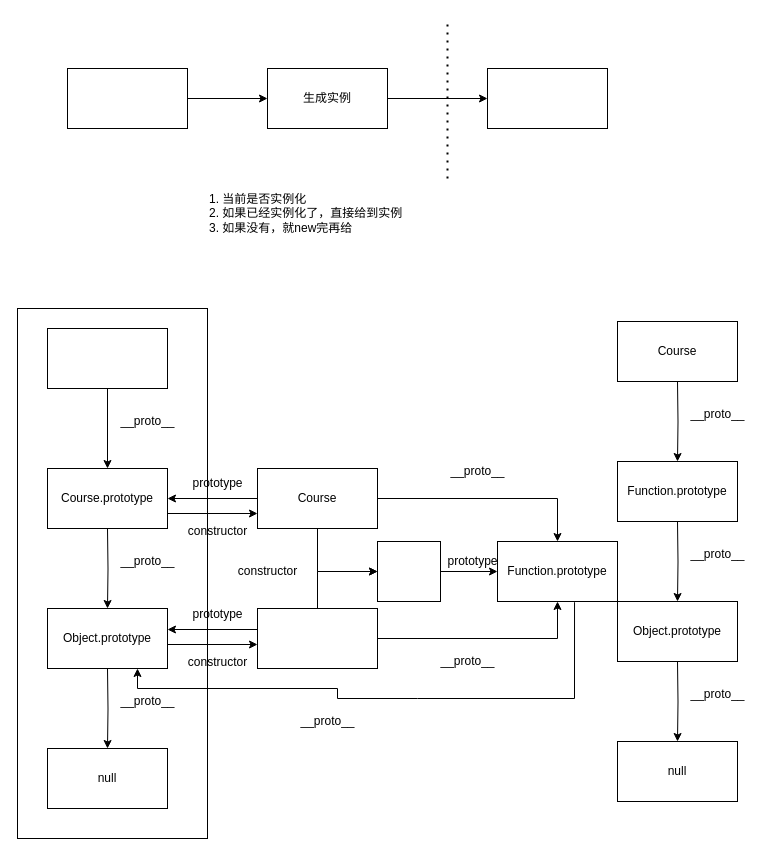
Image size: 775x856. Some labels were removed from this diagram. The box of each missing label's shape, as (x1, y1, x2, y2) in pixels:
course1: (46, 328, 168, 388)
Function: (376, 540, 440, 602)
Object: (256, 608, 378, 668)
使用实例: (486, 68, 608, 128)
构造函数: (66, 68, 188, 128)
